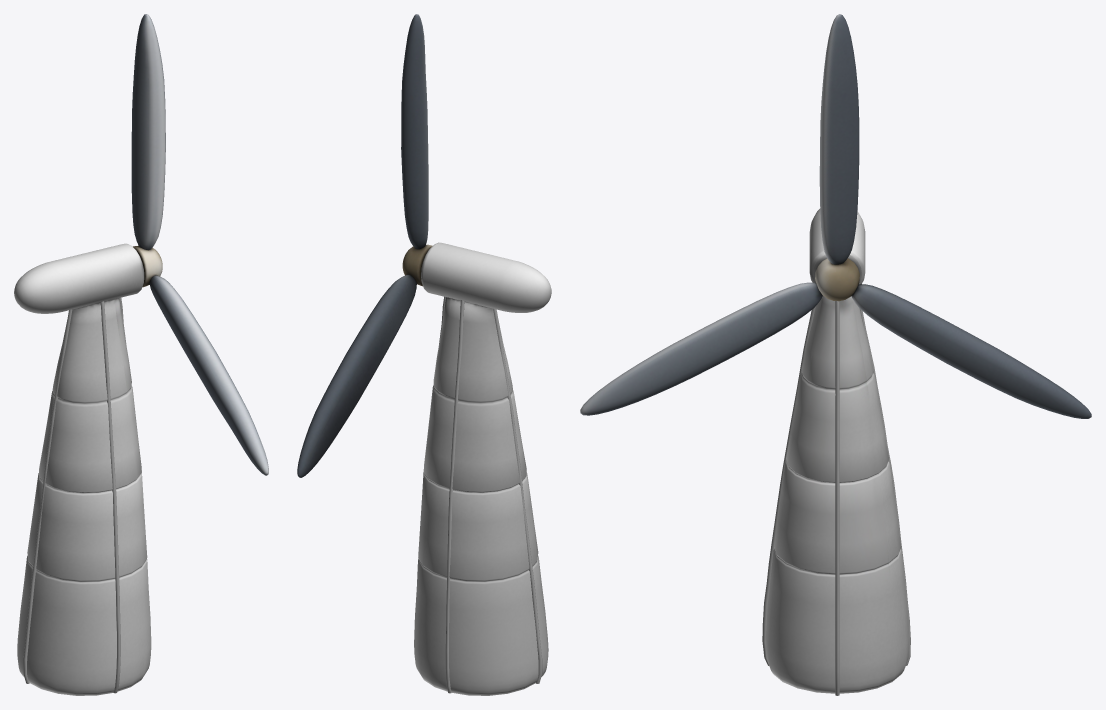
Rendered from P112_toy_line.fbx.
The picture shows the model from 3 angles, left to right: view 1: azimuth 30°, elevation 25°; view 2: azimuth 150°, elevation 25°; view 3: azimuth 270°, elevation 25°; orthographic projection. The views are drawn at different scales.
Visible parts, largest first — view 1: polySurface31, polySurface30, nurbsToPoly1, nurbsToPoly2; view 2: polySurface31, polySurface30, nurbsToPoly4, nurbsToPoly2; view 3: polySurface31, polySurface30, nurbsToPoly3, nurbsToPoly1.
Part boxes in pixels (x1=…): polySurface31: x1=17, y1=298, x2=151, y2=695; polySurface30: x1=14, y1=14, x2=268, y2=475; nurbsToPoly1: x1=100, y1=301, x2=120, y2=693; nurbsToPoly2: x1=23, y1=309, x2=72, y2=683; polySurface31: x1=414, y1=297, x2=548, y2=695; polySurface30: x1=297, y1=14, x2=551, y2=477; nurbsToPoly4: x1=445, y1=300, x2=464, y2=693; nurbsToPoly2: x1=493, y1=308, x2=542, y2=683; polySurface31: x1=765, y1=295, x2=909, y2=693; polySurface30: x1=580, y1=14, x2=1091, y2=418; nurbsToPoly3: x1=835, y1=301, x2=839, y2=695; nurbsToPoly1: x1=762, y1=306, x2=815, y2=665.
Bounding box in the file's own units: 1.32 × 5.57 × 3.77.
